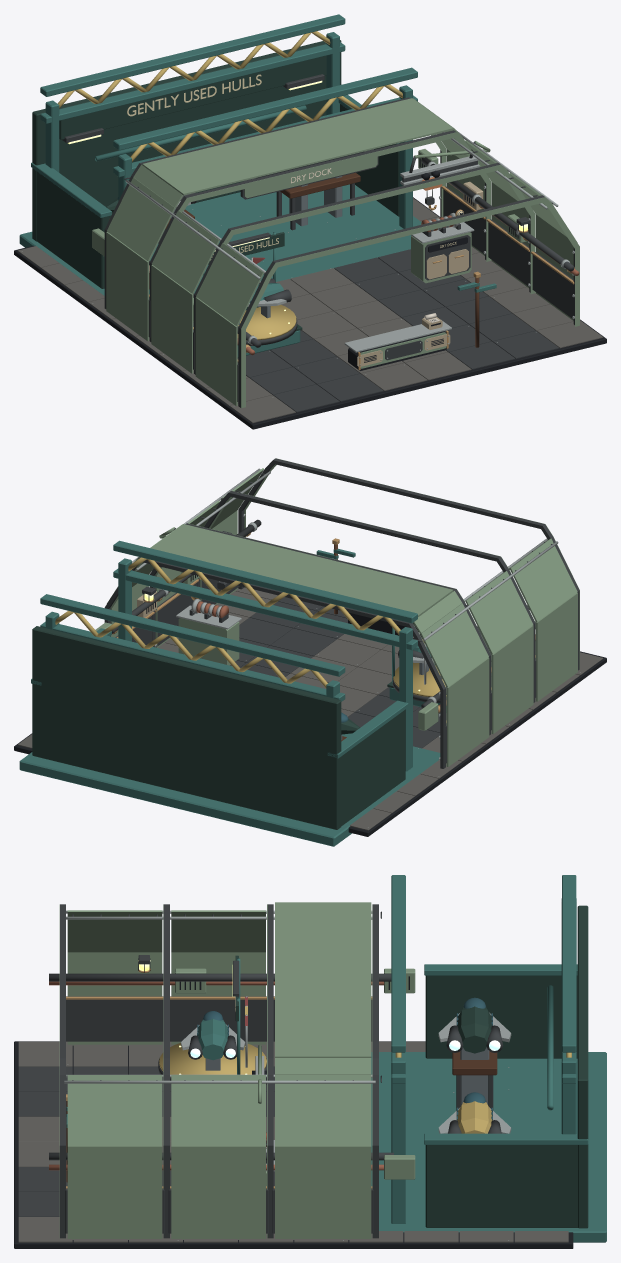
The model's file is verdanthia-yard.glb.
The picture shows the model from 3 angles, top to bottom: view 1: azimuth 30°, elevation 25°; view 2: azimuth 150°, elevation 25°; view 3: azimuth 270°, elevation 25°; orthographic projection. The views are drawn at different scales.
Parts seen in each view (by area): view 1: verdanthia-yard; view 2: verdanthia-yard; view 3: verdanthia-yard.
Boxes of the visible parts, left/top/right/bottom form: verdanthia-yard: left=14, top=14, right=606, bottom=429; verdanthia-yard: left=14, top=458, right=606, bottom=846; verdanthia-yard: left=14, top=875, right=606, bottom=1248.
Size of the model in its own units: 17.08 by 7.59 by 21.15.
Materials: 23 (18 with a texture image).
